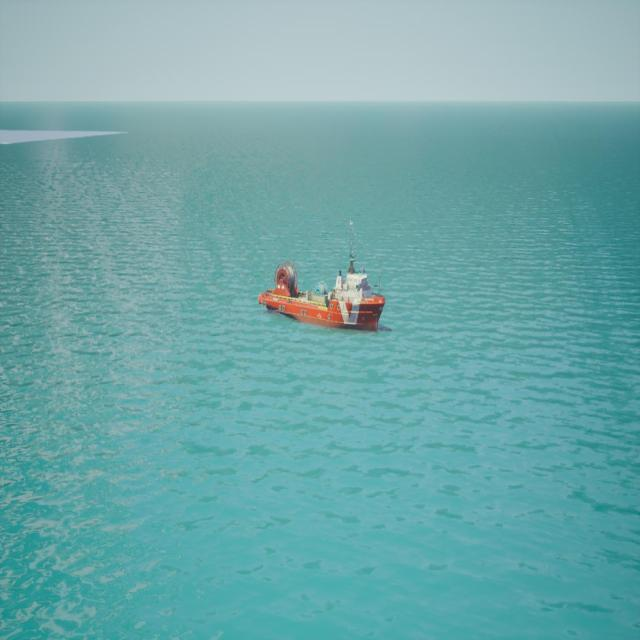tug boat: (258, 223, 390, 339)
